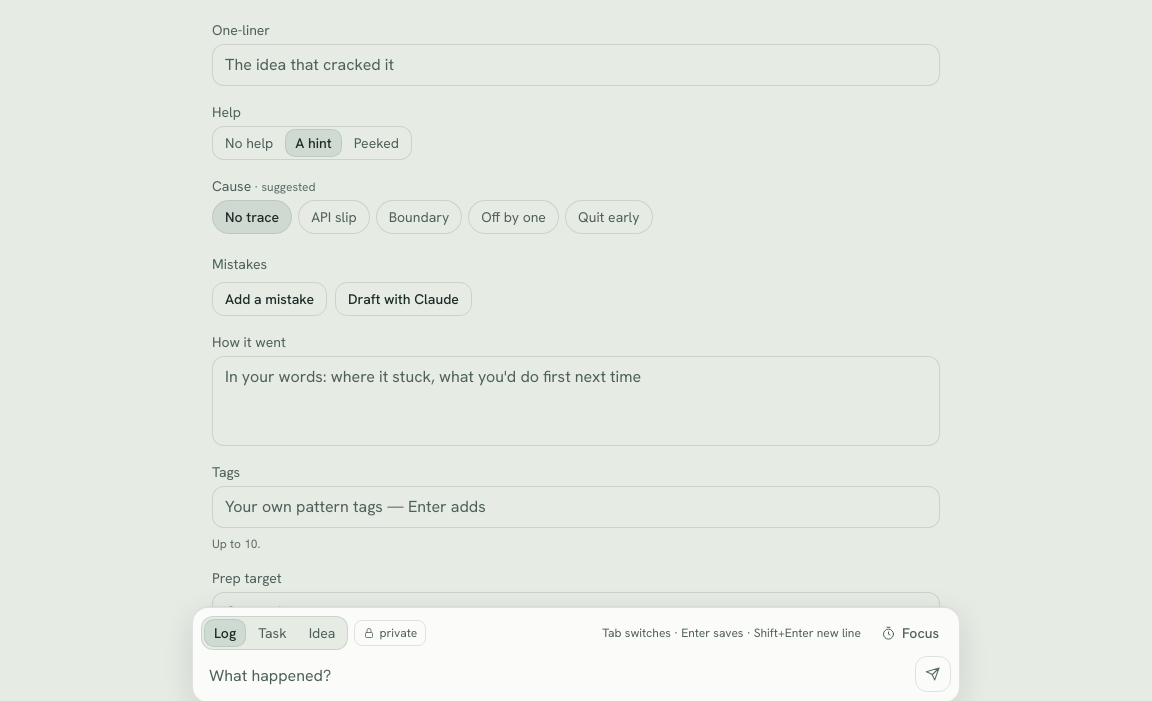
Test: the review › a failed draft says so inline and keeps what was typed; Save still saves
The width and height of the screenshot is (1152, 701).
(page scrolled)
Click the button "Add a mistake".
click(270, 299)  # box [212,282,327,316]
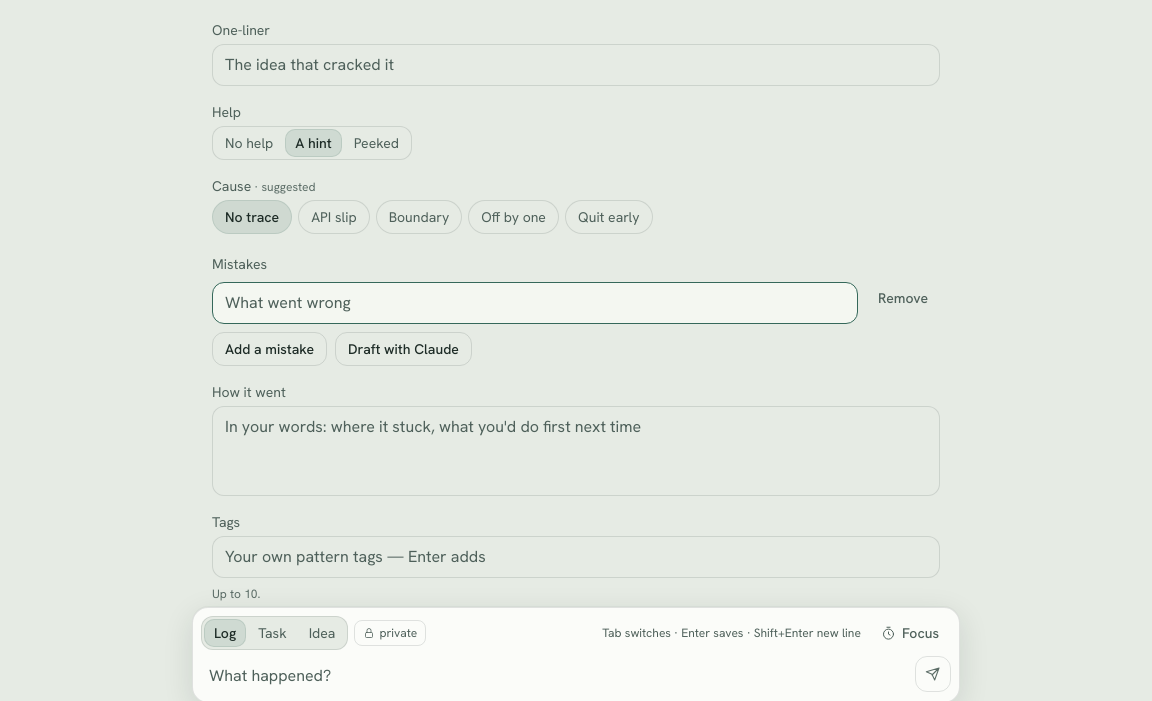
Type "mine" into the text box named "Mistake 1".
click(535, 303); type("mine")  # box [212,282,858,324]
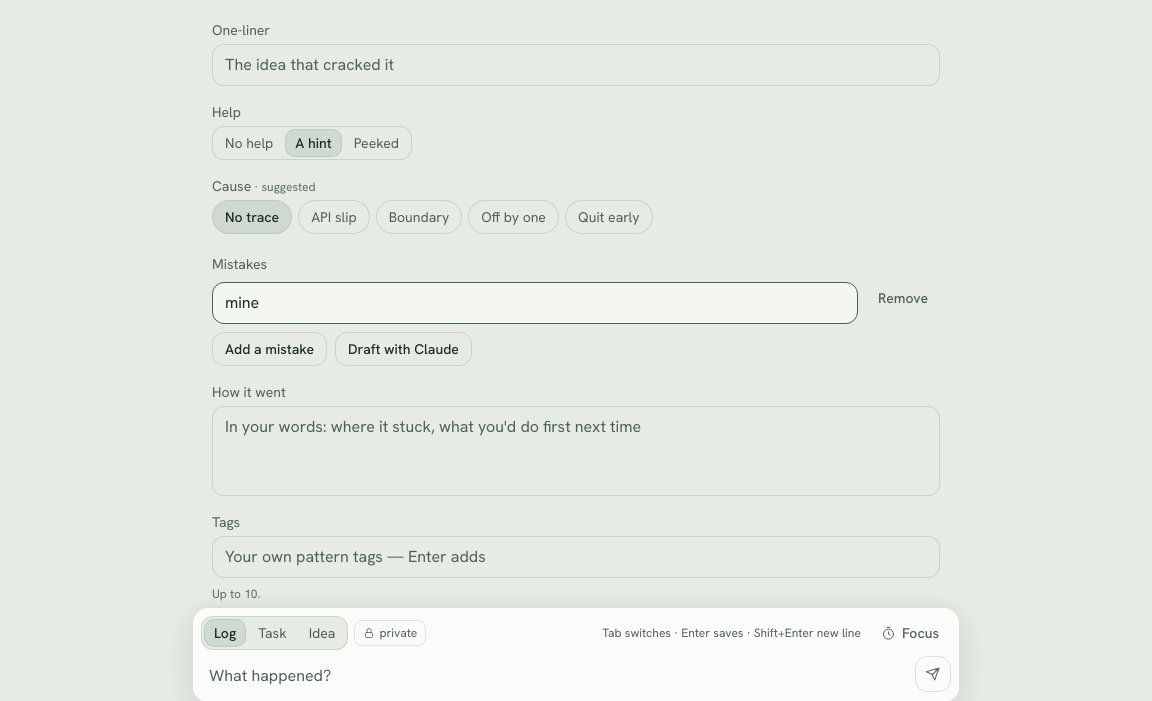
Click the button "Draft with Claude".
click(404, 349)  # box [335,332,472,366]
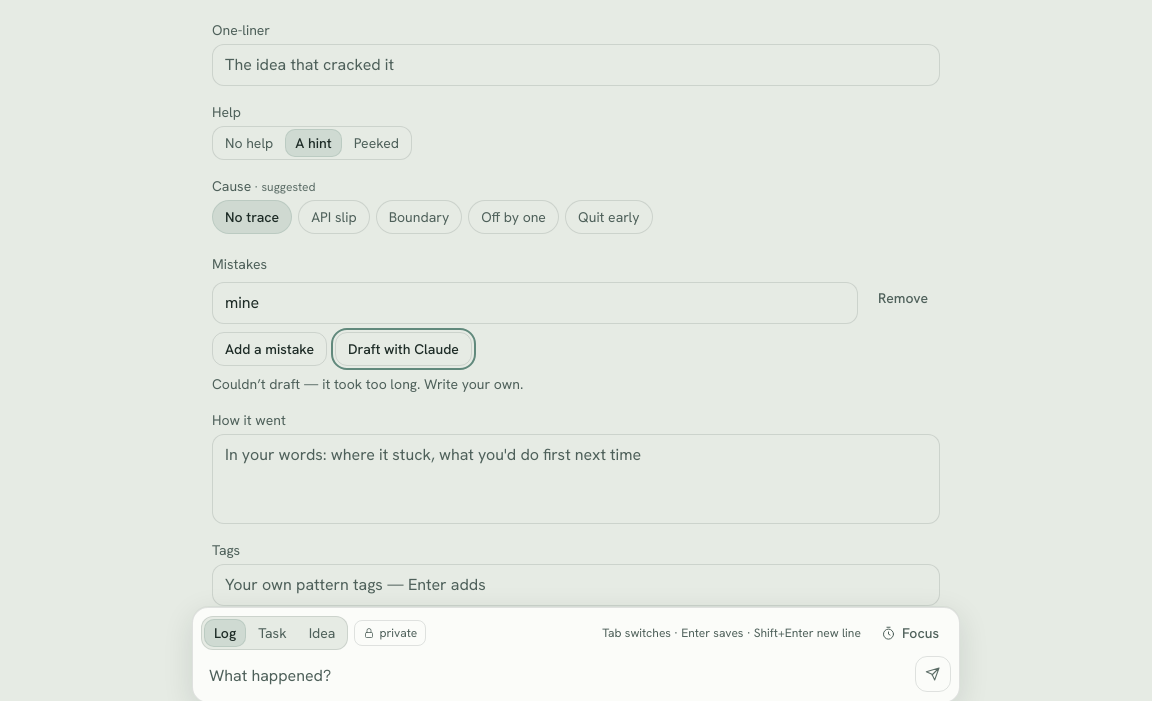
Now the text "Couldn’t draft — it took too long. Write your own." is shown, box [212,375,523,393]
Click the button "Draft with Claude".
click(404, 349)  # box [335,332,472,366]
(page scrolled)
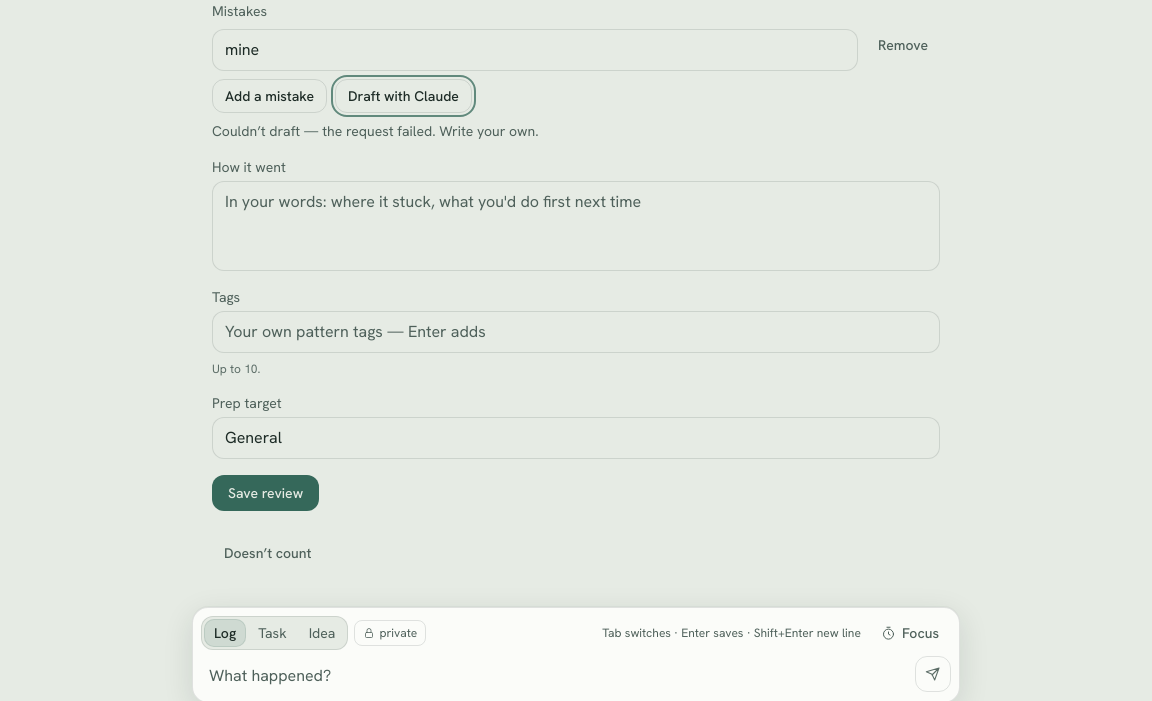
Now the text "Couldn’t draft — the request failed. Write your own." is shown, box [212,122,539,140]
Click the button "Save review".
click(266, 493)  # box [212,475,319,511]
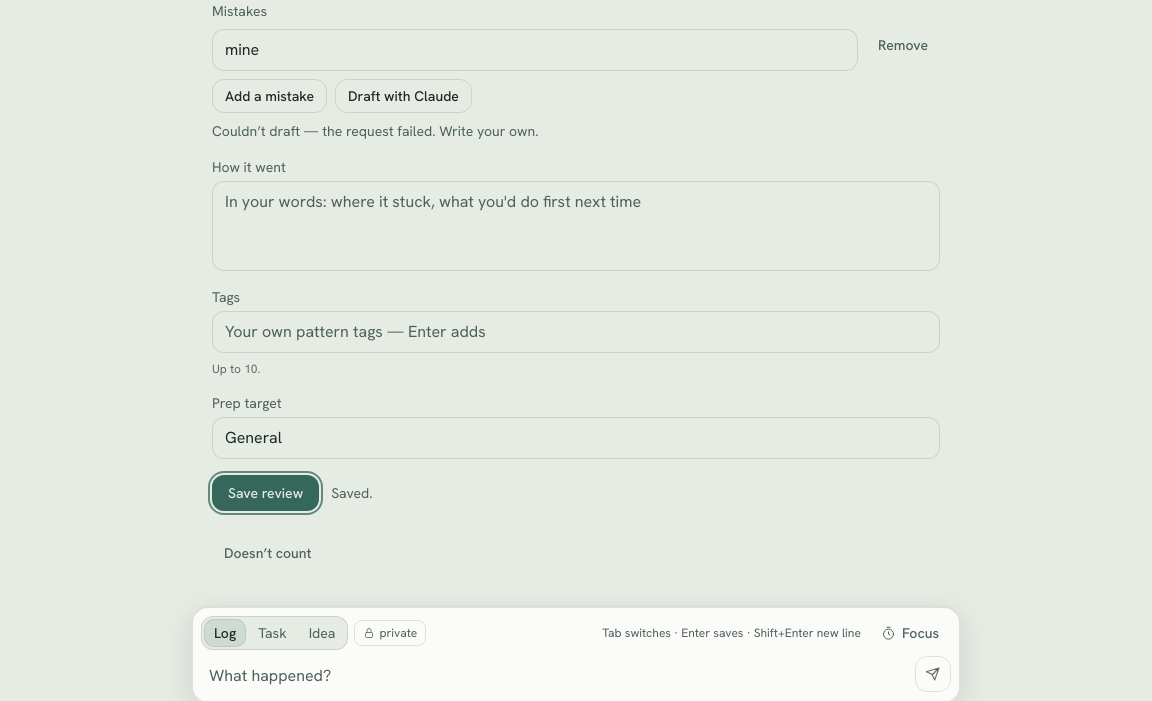
Now the text "Saved." is shown, box [331,484,373,502]
